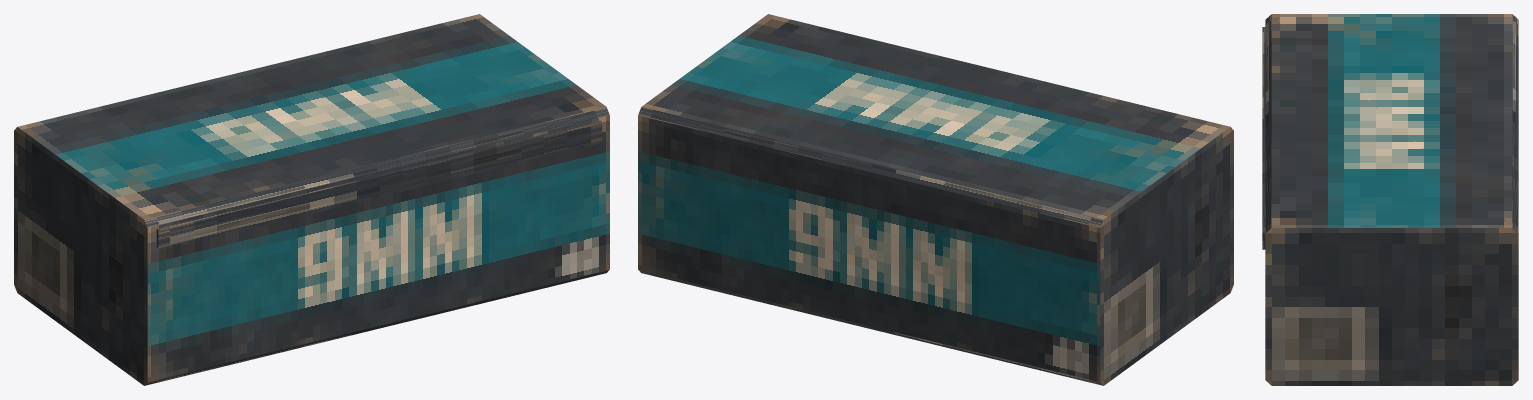
The model's file is smg.glb.
3 views of the same model, side by side, from view 1: azimuth 30°, elevation 25°; view 2: azimuth 150°, elevation 25°; view 3: azimuth 270°, elevation 25° (orthographic). The views are drawn at different scales.
Parts seen in each view (by area): view 1: Carton; view 2: Carton; view 3: Carton.
Boxes of the visible parts, x1=… form: Carton: x1=14, y1=14, x2=609, y2=385; Carton: x1=638, y1=14, x2=1233, y2=385; Carton: x1=1262, y1=14, x2=1518, y2=385.
Size of the model in its own units: 0.16 by 0.055 by 0.081.
Materials: 1 (1 with a texture image).
